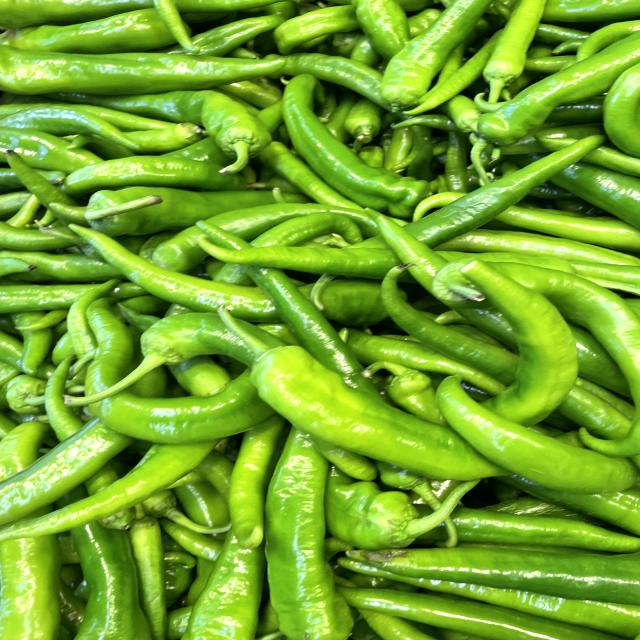green pepper: (257, 416, 351, 640), (0, 43, 304, 104)
